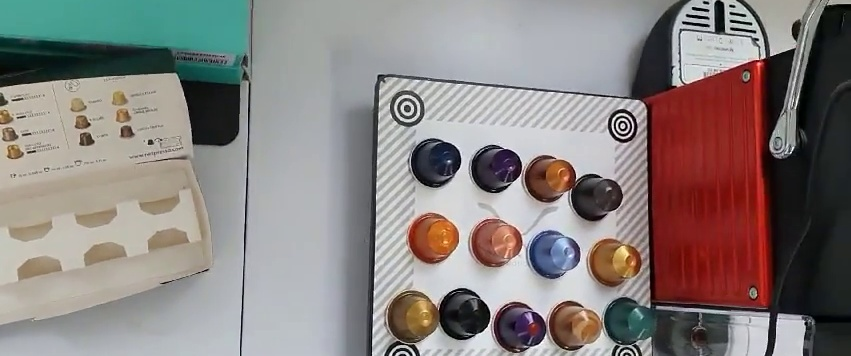capsule_1: (407, 137, 460, 190)
capsule_10: (436, 289, 491, 342)
capsule_11: (491, 297, 546, 356)
capsule_12: (545, 302, 604, 352)
capsule_13: (600, 292, 657, 347)
capsule_2: (472, 143, 522, 197)
capsule_3: (524, 151, 576, 204)
capsule_4: (569, 170, 625, 222)
capsule_5: (408, 213, 460, 266)
capsule_6: (469, 216, 524, 270)
capsule_7: (528, 229, 582, 279)
capsule_8: (585, 236, 642, 290)
capsule_9: (386, 287, 440, 346)
